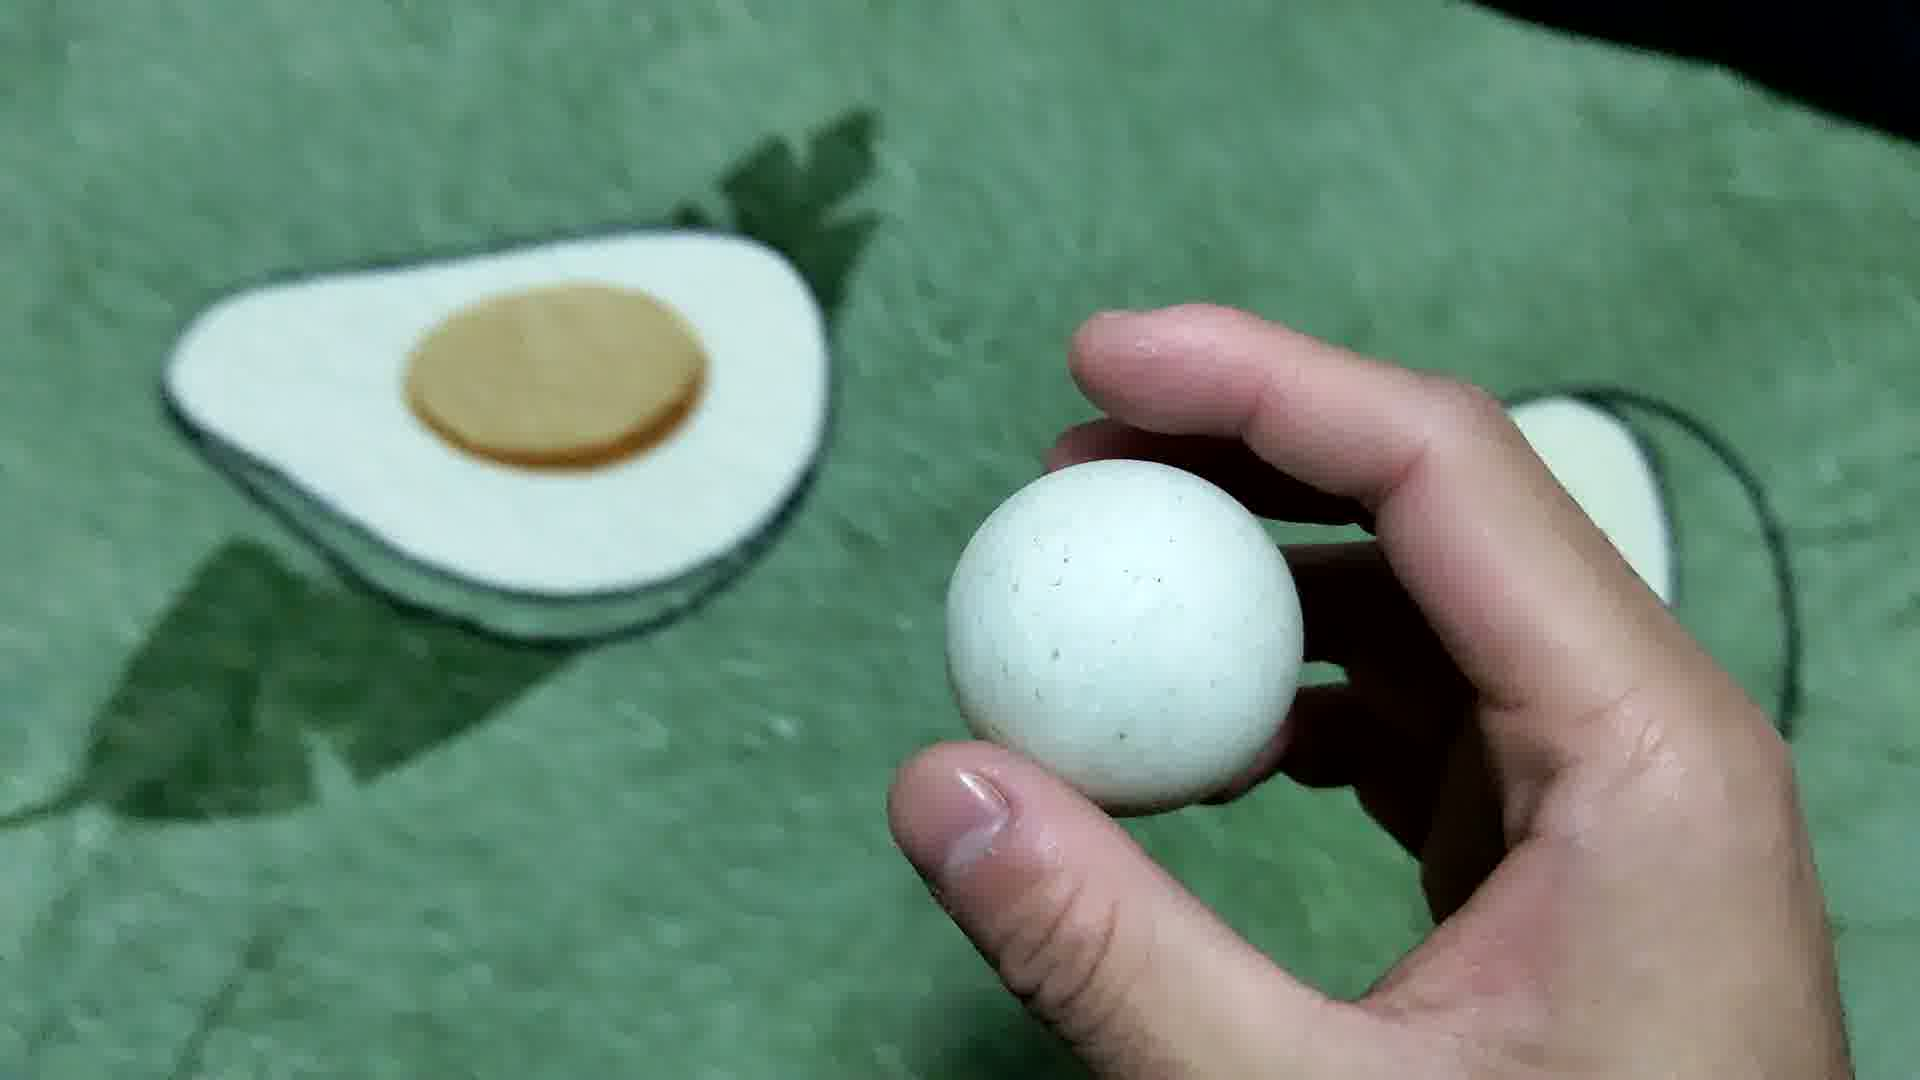Ball: (949, 458, 1305, 808)
